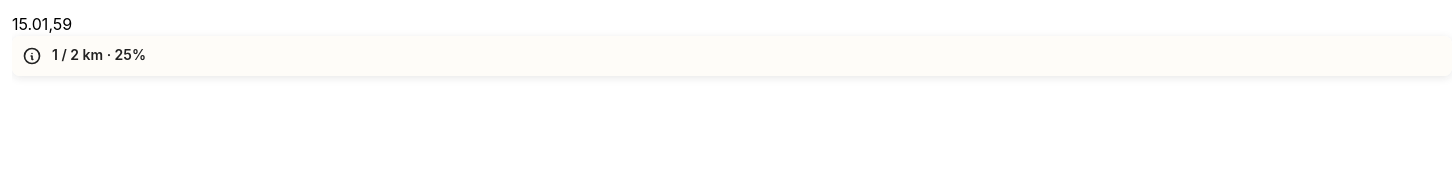
Scenario: refreshes progress in place
Expected: the element with test id "test-viewport" shows "15.01,59", [12,14,72,34]
Expected: the text "1 / 2 km · 25%" is shown, [52,44,146,65]
Click the button named "Hike statistics" at (32, 56), box [12,36,52,76]
Wait 30000 ms
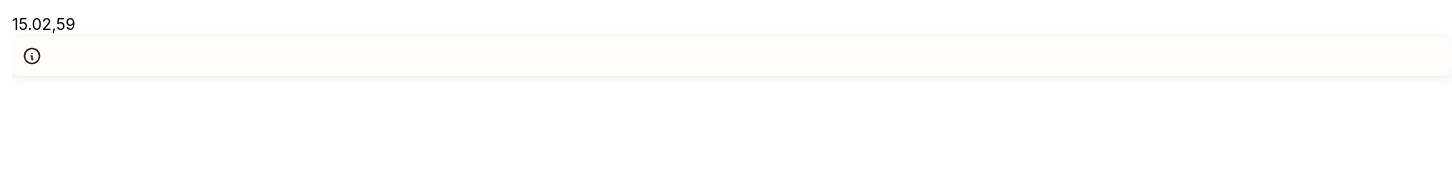
Expected: the text "1 / 2 km · 25%" is gone
Expected: the element with test id "test-viewport" reads "15.02,59", [12,14,75,34]
Click the button named "Hike statistics" at (32, 56), box [12,36,52,76]
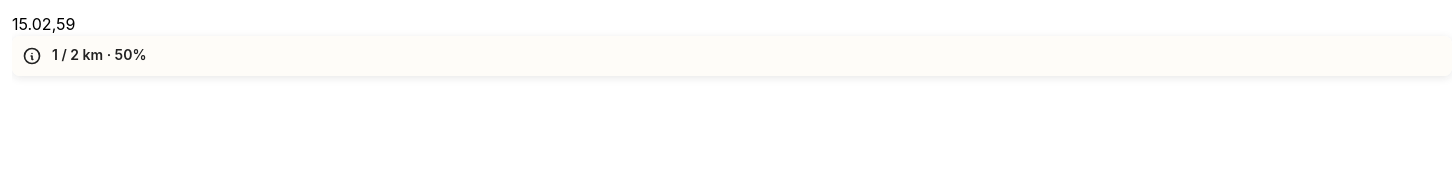
Expected: the text "1 / 2 km · 50%" is shown, [52,44,146,65]
